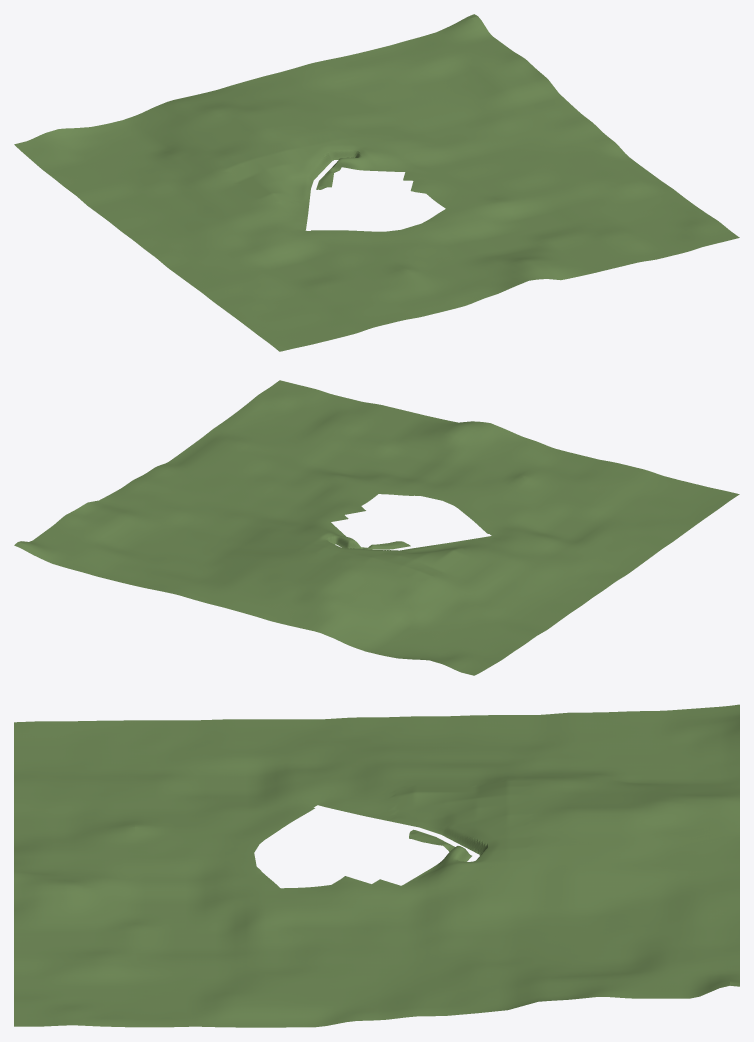
3 views of the same model, one above another, from view 1: azimuth 30°, elevation 25°; view 2: azimuth 150°, elevation 25°; view 3: azimuth 270°, elevation 25° (orthographic). The views are drawn at different scales.
Visible parts, largest first — view 1: surface_context-terrain; view 2: surface_context-terrain; view 3: surface_context-terrain.
Part boxes in pixels (<box>): surface_context-terrain: <box>14,14,739,351</box>; surface_context-terrain: <box>14,380,739,675</box>; surface_context-terrain: <box>14,704,739,1027</box>.
Bounding box in the file's own units: 720 × 48.26 × 720.
Materials: 1 (1 with a texture image).
